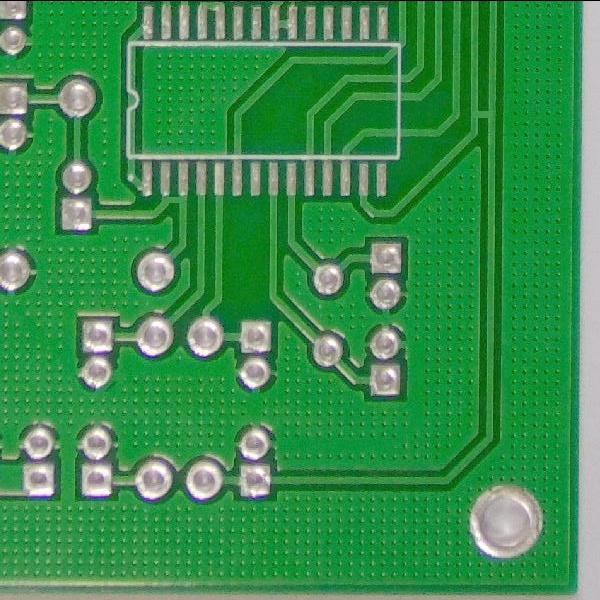short: (465, 95, 504, 129), (154, 187, 187, 220)
